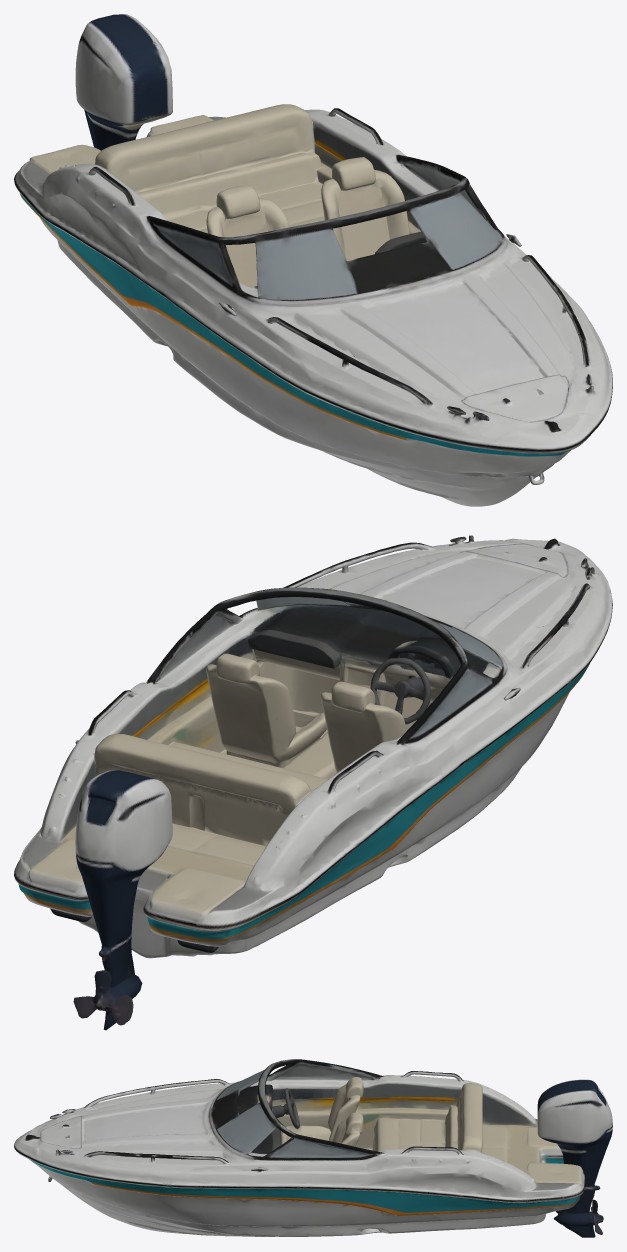
Rendered from boat.glb.
3 renders of one model, top to bottom at view 1: azimuth 30°, elevation 25°; view 2: azimuth 150°, elevation 25°; view 3: azimuth 270°, elevation 25°, orthographic. The views are drawn at different scales.
Visible parts, largest first — view 1: tripo_node_37200a8d-4011-4025-be95-a954c05eaab5; view 2: tripo_node_37200a8d-4011-4025-be95-a954c05eaab5; view 3: tripo_node_37200a8d-4011-4025-be95-a954c05eaab5.
Boxes of the visible parts, x1,y1,x2,y2 form: tripo_node_37200a8d-4011-4025-be95-a954c05eaab5: (14,14,612,506); tripo_node_37200a8d-4011-4025-be95-a954c05eaab5: (14,535,612,1030); tripo_node_37200a8d-4011-4025-be95-a954c05eaab5: (14,1059,612,1237).
Bounding box in the file's own units: 0.3698 × 0.2809 × 1.
1 material, 1 textured.
